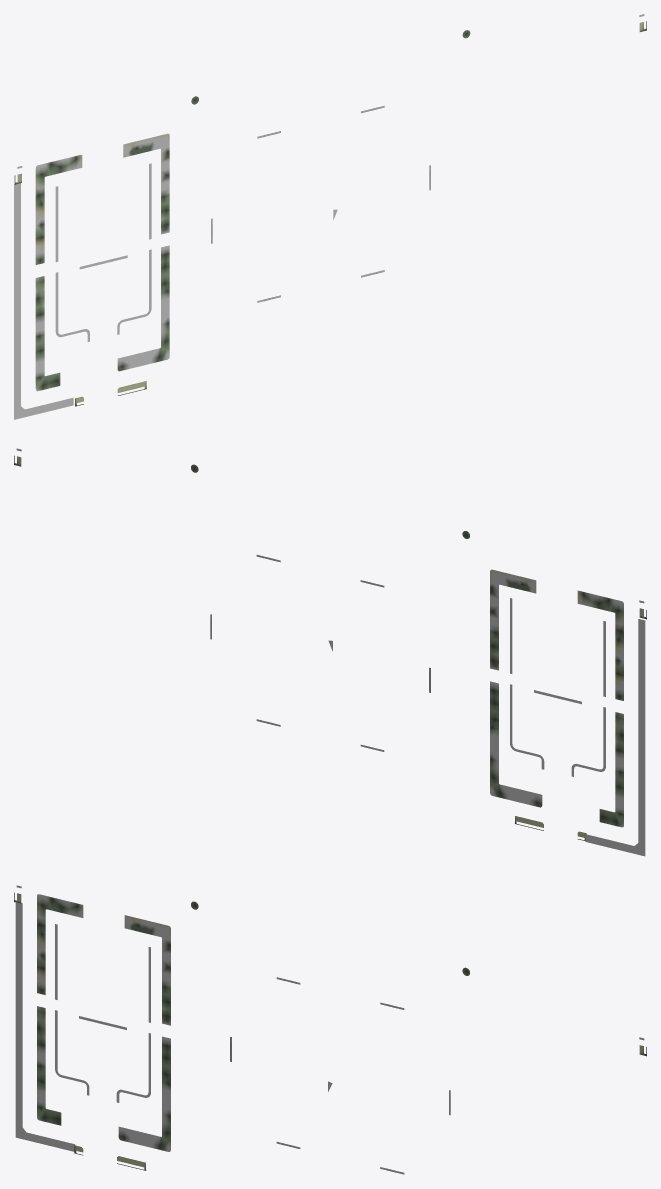
Rendered from SM_000422_merge_soil01_grass02__001.fbx.
3 renders of one model, top to bottom at view 1: azimuth 30°, elevation 25°; view 2: azimuth 150°, elevation 25°; view 3: azimuth 330°, elevation 25°, orthographic.
Parts seen in each view (by area): view 1: SM_000422.001; view 2: SM_000422.001; view 3: SM_000422.001.
Boxes of the visible parts, bbox=[...] form: SM_000422.001: bbox=[14, 14, 646, 419]; SM_000422.001: bbox=[14, 448, 646, 856]; SM_000422.001: bbox=[14, 885, 646, 1174].
Size of the model in its own units: 329 by 140 by 11.08.
